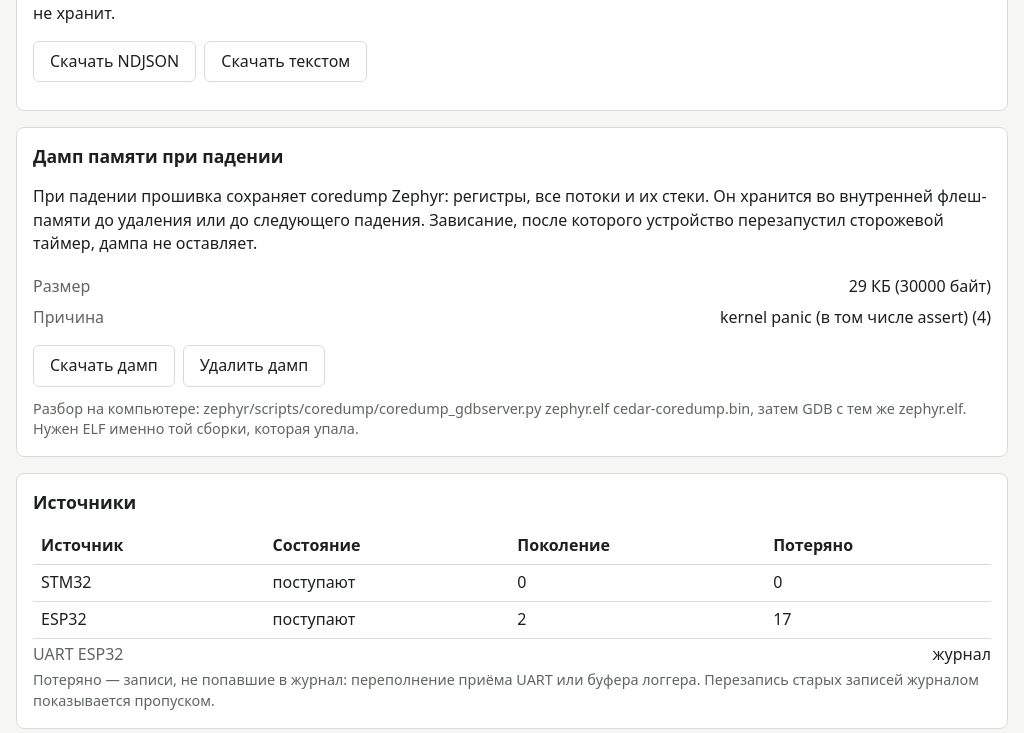
Test: coredump › keeps the dump and says why when clearing fails
(page scrolled)
Click the button "Удалить дамп" at (254, 366), box [183,345,325,386]
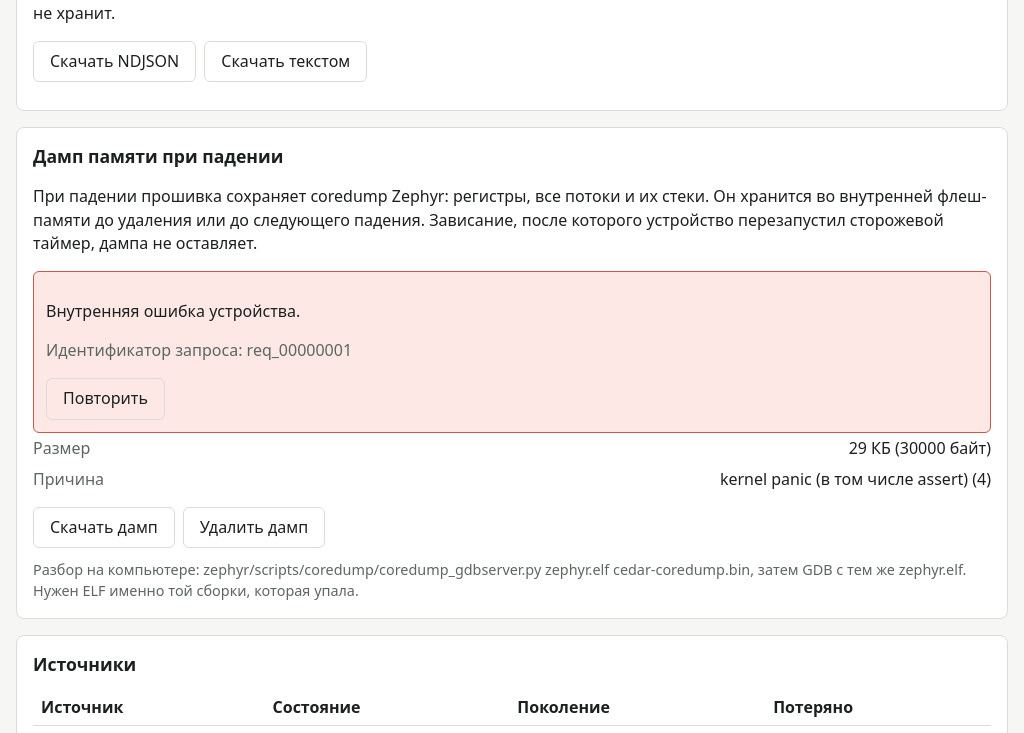
Expected: the link with test id "coredump-download" is shown, [33,507,175,548]
Expected: the message "Внутренняя ошибка устройства. Идентификатор запроса: req_00000001 Повторить" is shown, [33,271,991,432]
